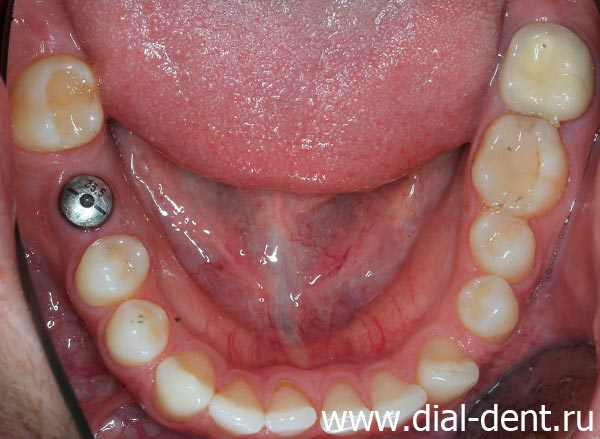LL1BC_healthy: (455, 278, 518, 339)
LL1M_healthy: (479, 121, 564, 210)
LL2BC_healthy: (473, 212, 539, 276)
LL2M_decay: (508, 29, 593, 113)
LLCI_healthy: (321, 382, 362, 411)
LLC_healthy: (416, 335, 478, 394)
LLLI_healthy: (373, 368, 423, 405)
LR1BC_healthy: (112, 302, 170, 365)
LR2BC_healthy: (79, 238, 151, 297)
LR2M_decay: (23, 59, 99, 151)
LRCI_healthy: (269, 387, 315, 431)
LRC_healthy: (161, 351, 212, 407)
LRLI_healthy: (214, 382, 264, 433)
